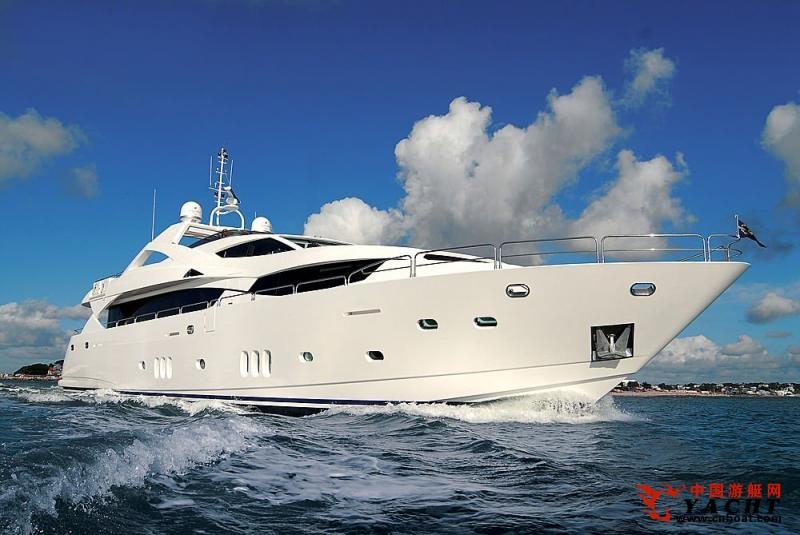yacht: (51, 141, 763, 413)
